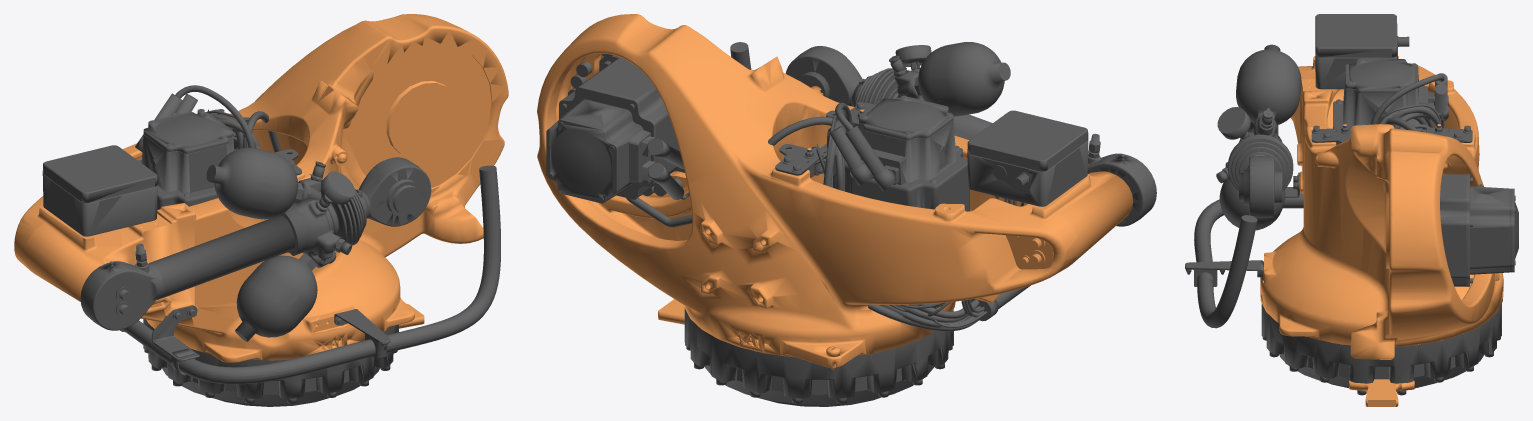
3 renders of one model, left to right at view 1: azimuth 30°, elevation 25°; view 2: azimuth 150°, elevation 25°; view 3: azimuth 270°, elevation 25°, orthographic. The views are drawn at different scales.
Parts seen in each view (by area): view 1: link_1; view 2: link_1; view 3: link_1.
Boxes of the visible parts, bbox=[...] form: link_1: bbox=[14, 14, 508, 406]; link_1: bbox=[537, 14, 1156, 406]; link_1: bbox=[1185, 14, 1518, 406].
Size of the model in its own units: 1.05 by 0.6515 by 0.6023.
